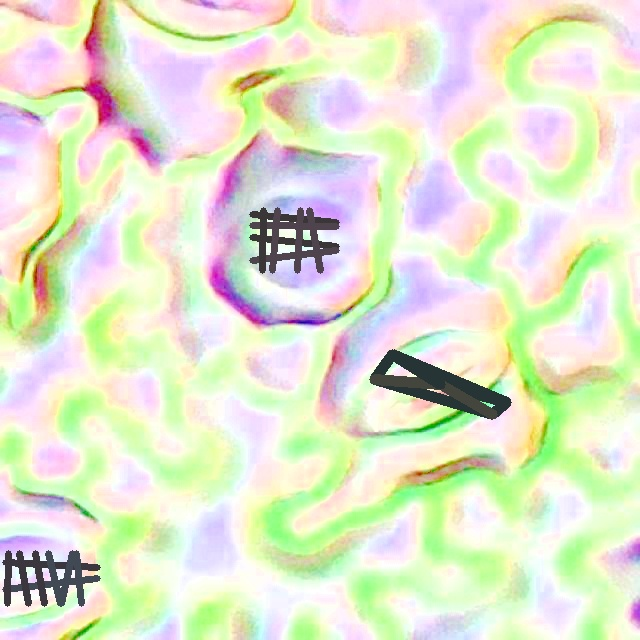close: (250, 208, 338, 272), (2, 550, 100, 606)
open: (369, 350, 510, 419)
